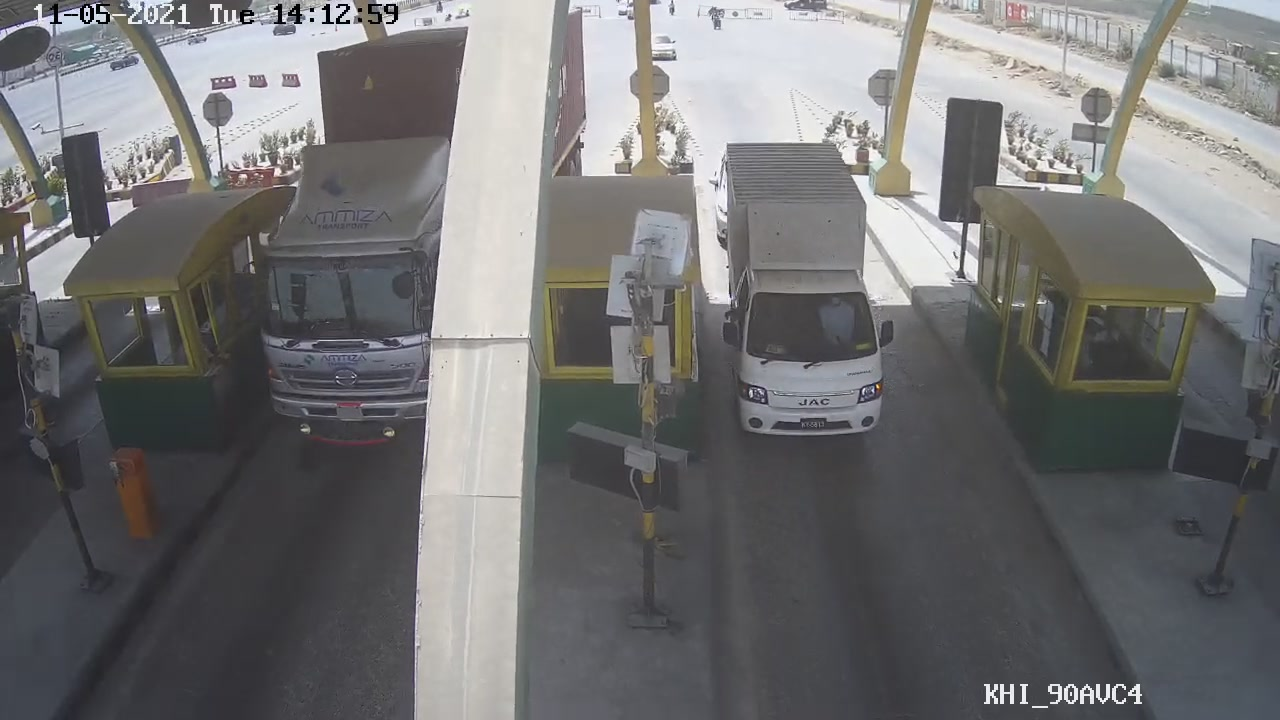F2: (702, 138, 907, 447)
